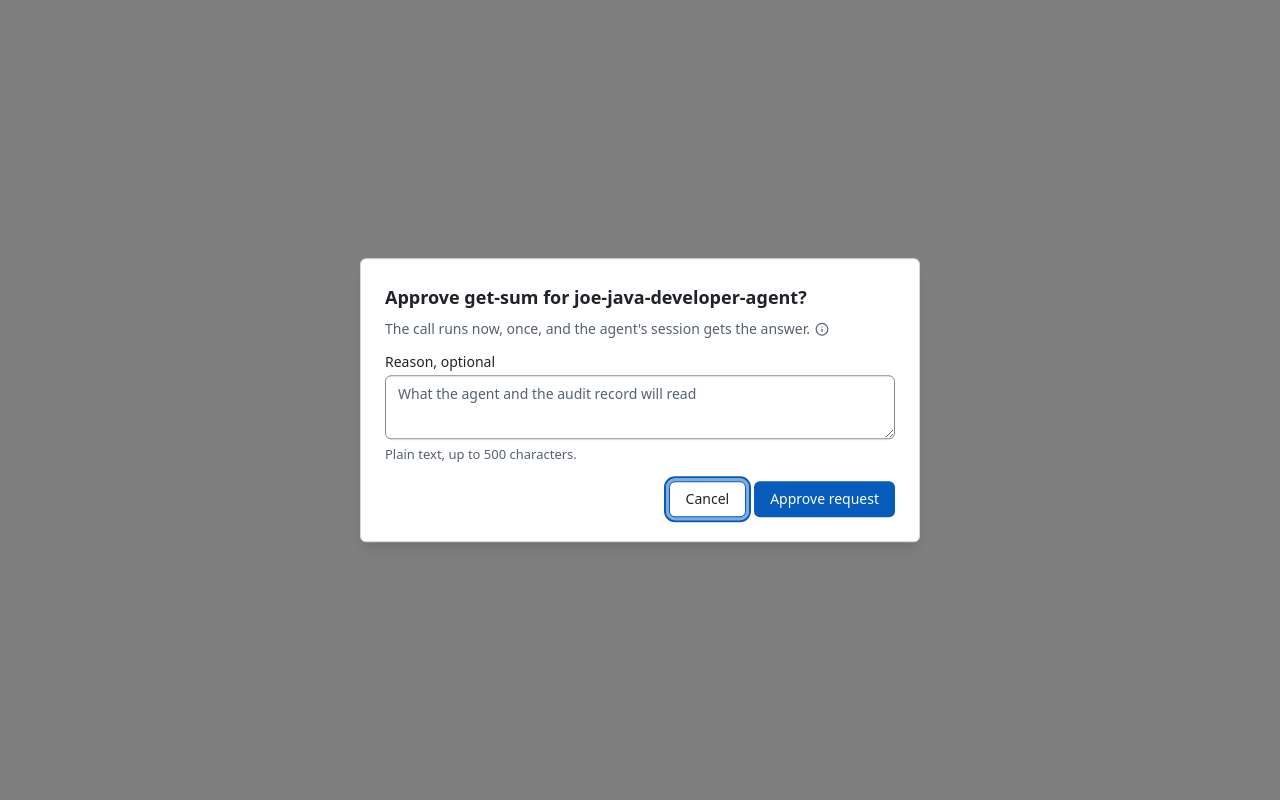
Scenario: the decide dialog › ends the question when the request was decided elsewhere first
Click the button "Approve request".
click(825, 499)  # box [754,481,895,517]
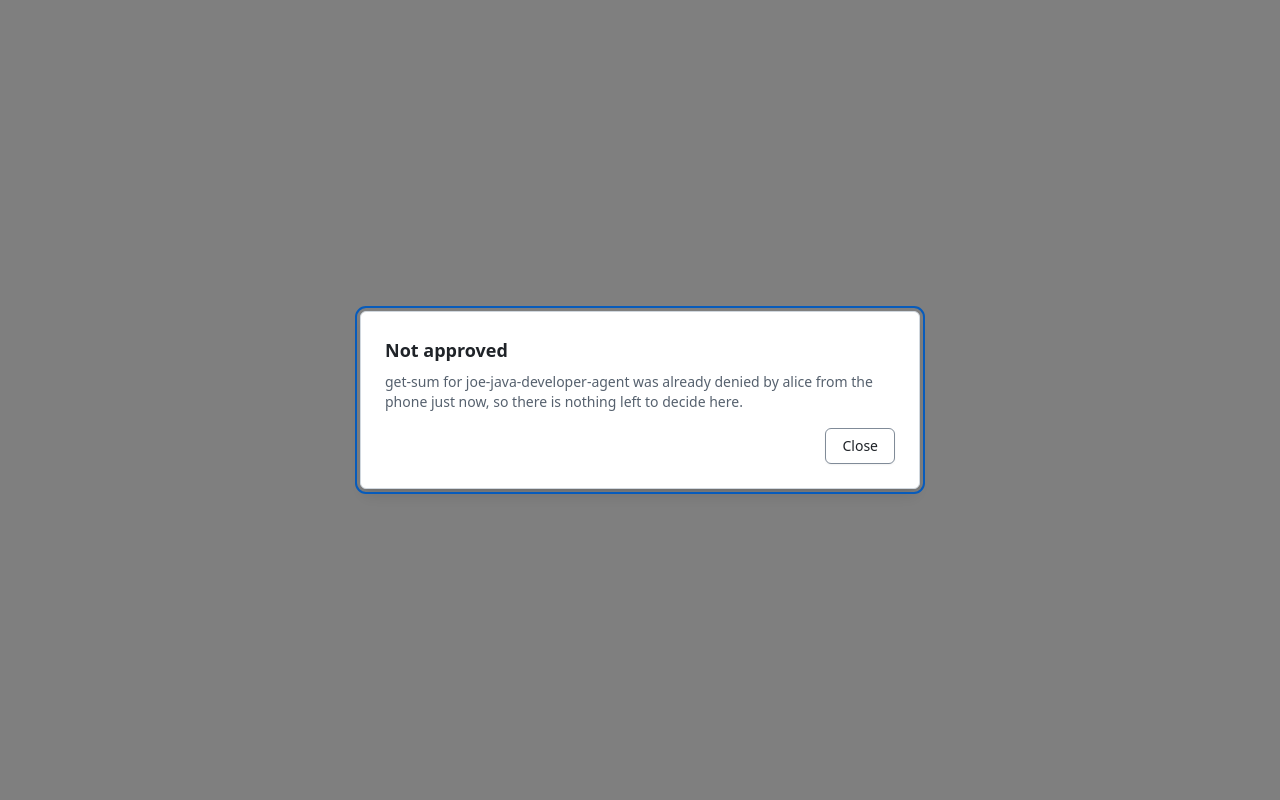
Check: the heading "Not approved" is shown, box [385,338,508,362]
Check: the label labelled "Reason, optional" is gone
Check: the button "Approve request" is gone
